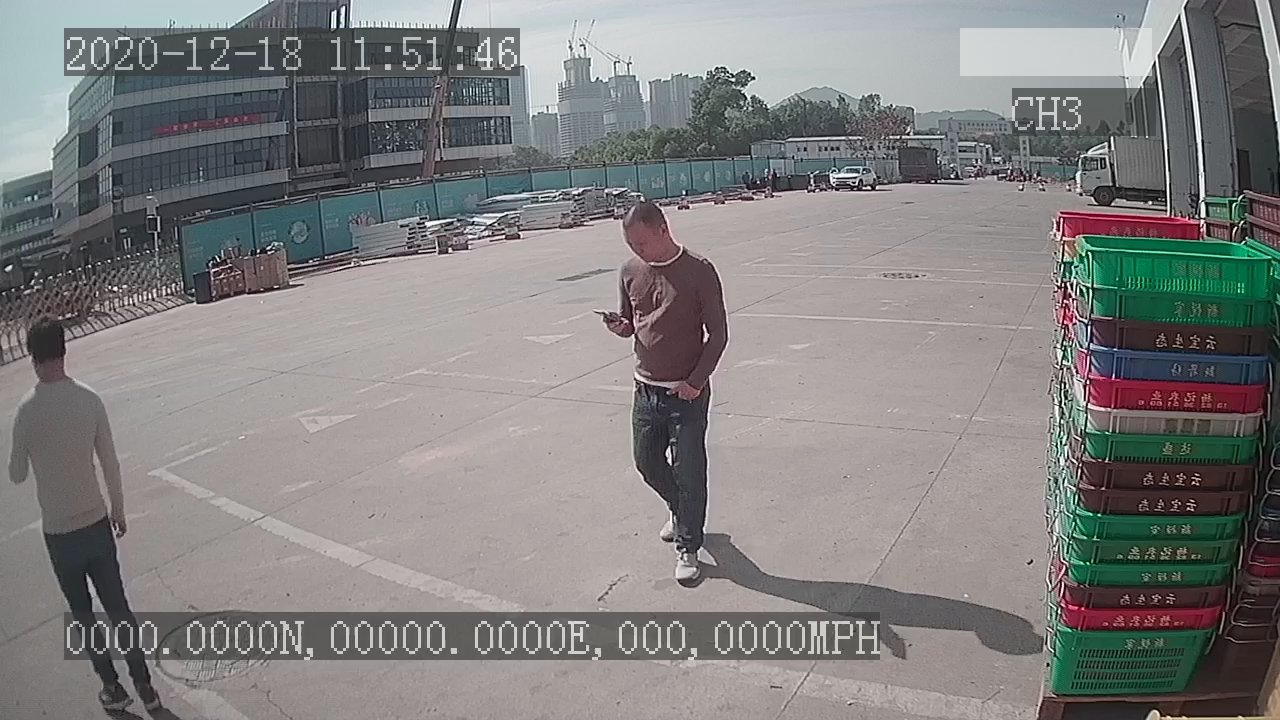person: (585, 195, 736, 594)
